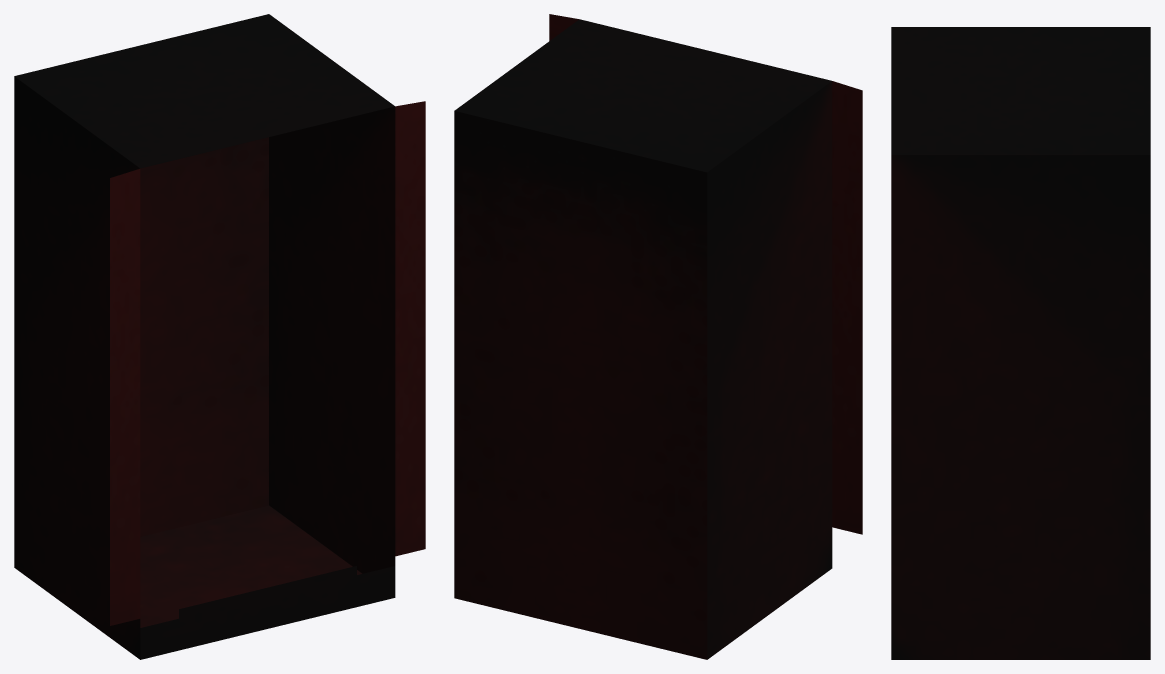
The model's file is wall.fbx.
3 views of the same model, side by side, from view 1: azimuth 30°, elevation 25°; view 2: azimuth 150°, elevation 25°; view 3: azimuth 270°, elevation 25° (orthographic). The views are drawn at different scales.
Parts seen in each view (by area): view 1: wall (2); view 2: wall (2); view 3: wall (2).
Boxes of the visible parts, left/top/right/bottom form: wall (2): left=14, top=14, right=425, bottom=659; wall (2): left=454, top=14, right=862, bottom=659; wall (2): left=891, top=27, right=1150, bottom=659.
Bounding box in the file's own units: 18.93 × 28.14 × 13.1.
Materials: 1 (1 with a texture image).
